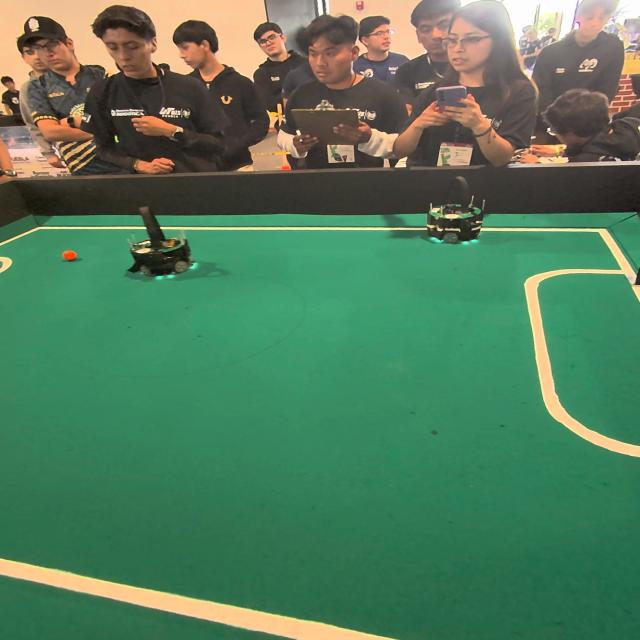Robot: (122, 204, 202, 290), (422, 172, 489, 252)
pelota: (62, 250, 82, 264)
